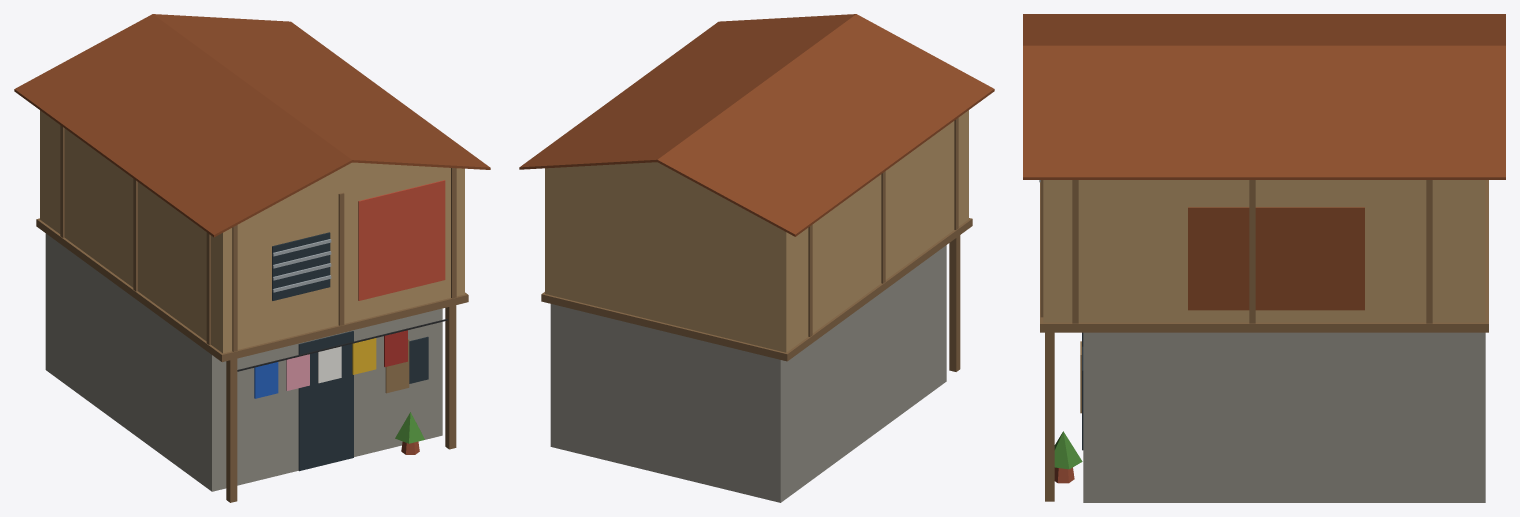
The model's file is BAY_I_Shanty2F_A.glb.
3 renders of one model, left to right at view 1: azimuth 30°, elevation 25°; view 2: azimuth 150°, elevation 25°; view 3: azimuth 270°, elevation 25°, orthographic. The views are drawn at different scales.
Parts seen in each view (by area): view 1: BAY_I_Shanty2F_A; view 2: BAY_I_Shanty2F_A; view 3: BAY_I_Shanty2F_A.
Part boxes in pixels (bbox=[...]): BAY_I_Shanty2F_A: bbox=[14, 14, 490, 502]; BAY_I_Shanty2F_A: bbox=[519, 14, 994, 502]; BAY_I_Shanty2F_A: bbox=[1023, 14, 1505, 502].
Bounding box in the file's own units: 4.8 × 5.34 × 6.
Materials: 1 (1 with a texture image).
